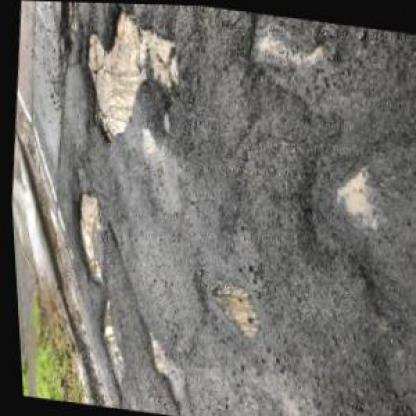pothole: (65, 1, 190, 156), (233, 10, 329, 79), (61, 186, 108, 283), (201, 274, 261, 338), (83, 295, 126, 384)
